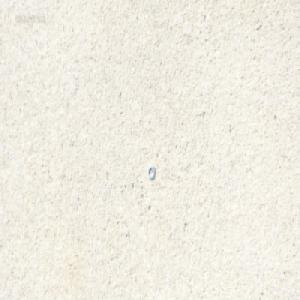Washer: (147, 165, 155, 180)
